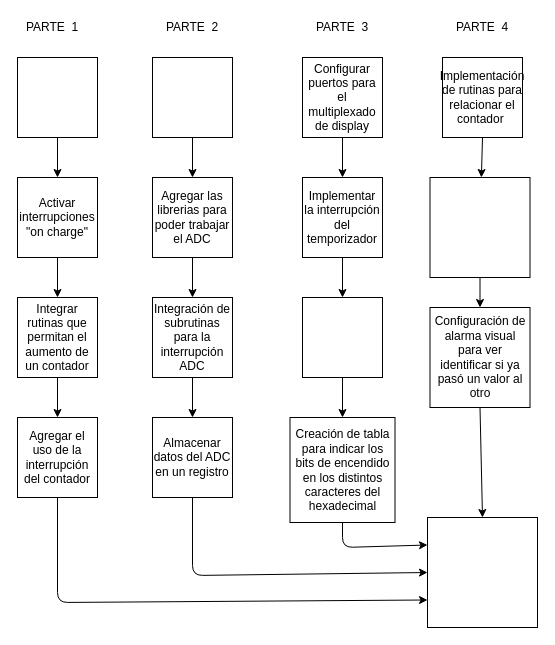
Image size: 555x645. Some labels were removed from this diagram. Each missing label, with the centre of its shape:
"Armar el circuito en Proteus y cargar el archivo .hex para hacer las pruebas." belongs at (482,572).
"Configurar los puertos del PIC." belongs at (57,97).
"Configurar los puertos para trabajar el ADC" belongs at (192,97).
"Elaboración de un comparador para saber que valor es mayor" belongs at (479,227).
"Integración de subrutinas para el multiplexado" belongs at (342,337).
